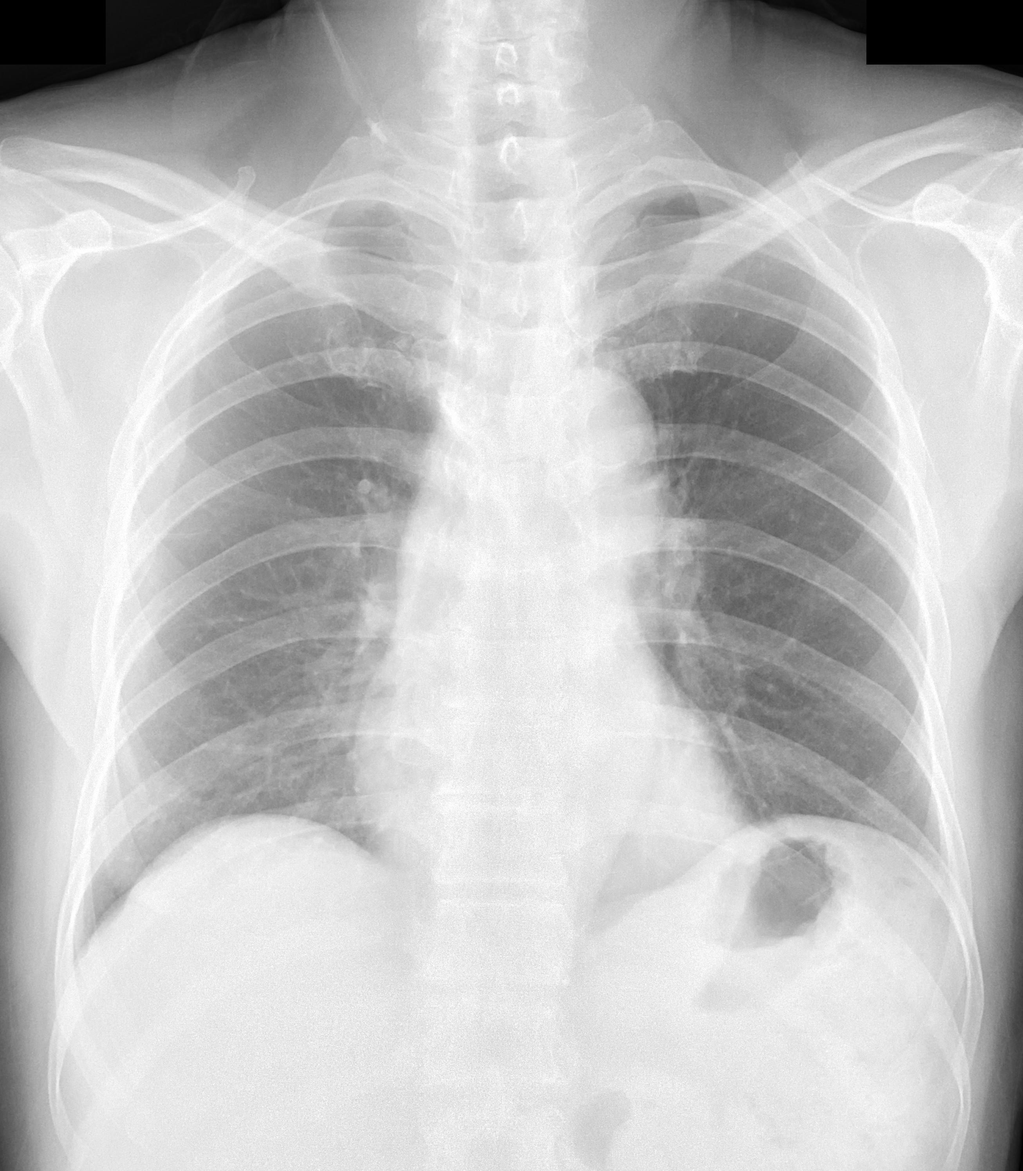Aortic enlargement: (536, 370, 662, 537)
